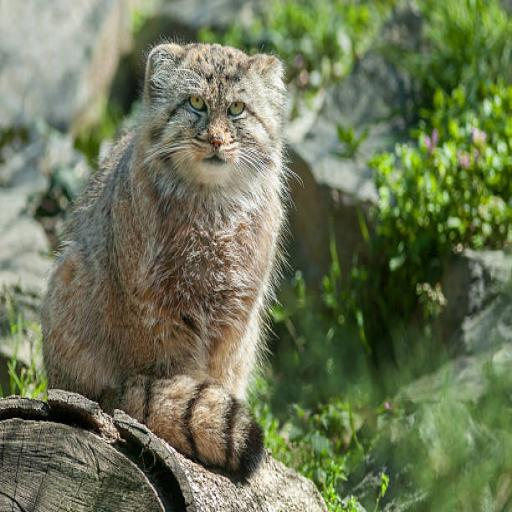manul: (43, 44, 285, 474)
